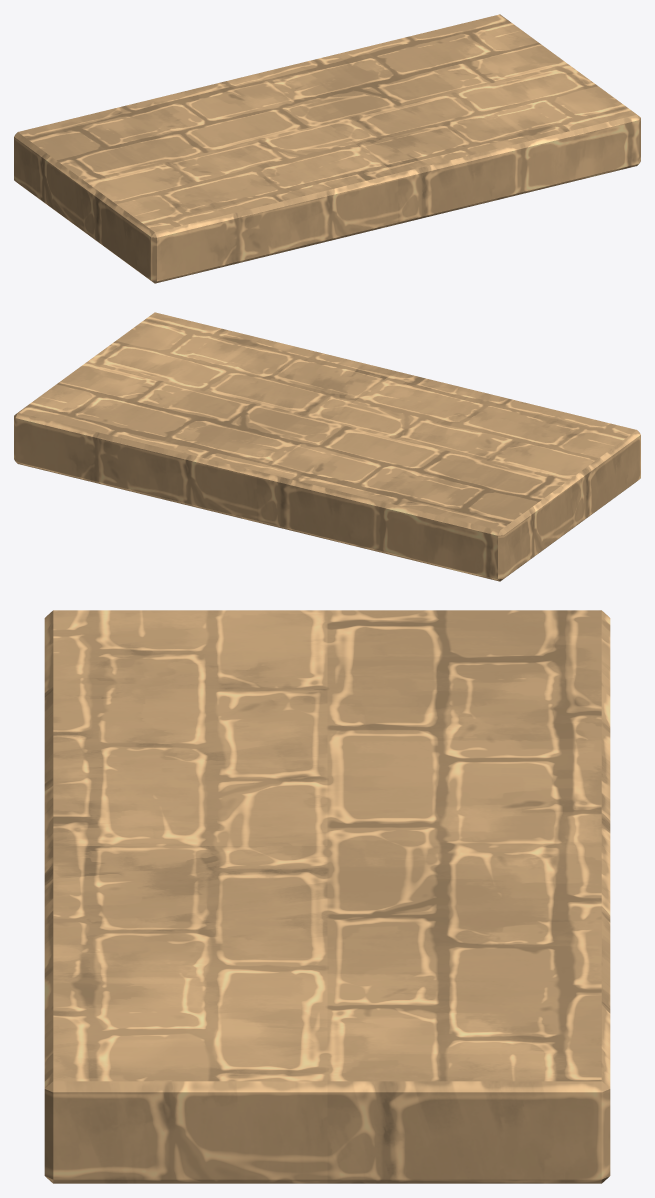
File: foundation_2x1.gltf
The picture shows the model from 3 angles, top to bottom: view 1: azimuth 30°, elevation 25°; view 2: azimuth 150°, elevation 25°; view 3: azimuth 270°, elevation 25°; orthographic projection. The views are drawn at different scales.
Visible parts, largest first — view 1: foundation_2x1; view 2: foundation_2x1; view 3: foundation_2x1.
Part boxes in pixels (box(x1,y1,x2,y2)): foundation_2x1: box(14, 14, 640, 283); foundation_2x1: box(14, 312, 640, 581); foundation_2x1: box(44, 610, 610, 1183).
Size of the model in its own units: 2 by 0.2 by 1.
1 material, 1 textured.
